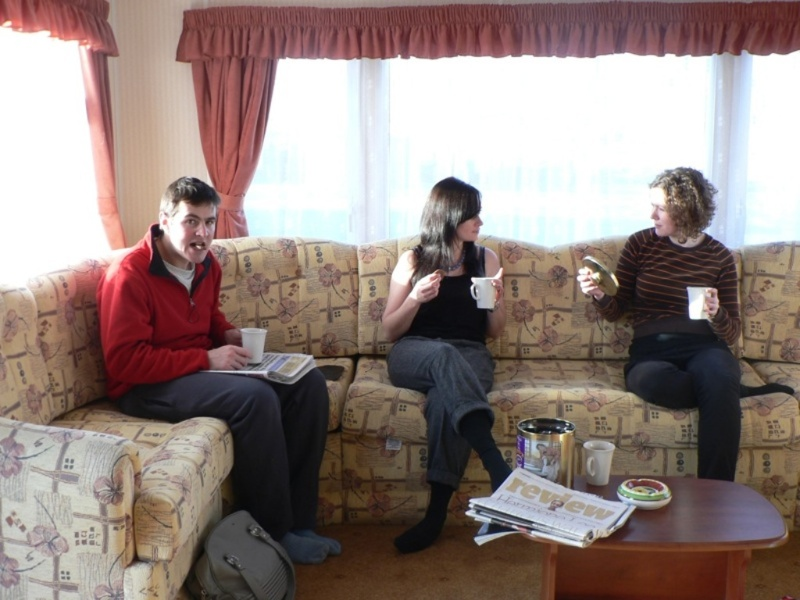couch: (16, 234, 800, 513)
